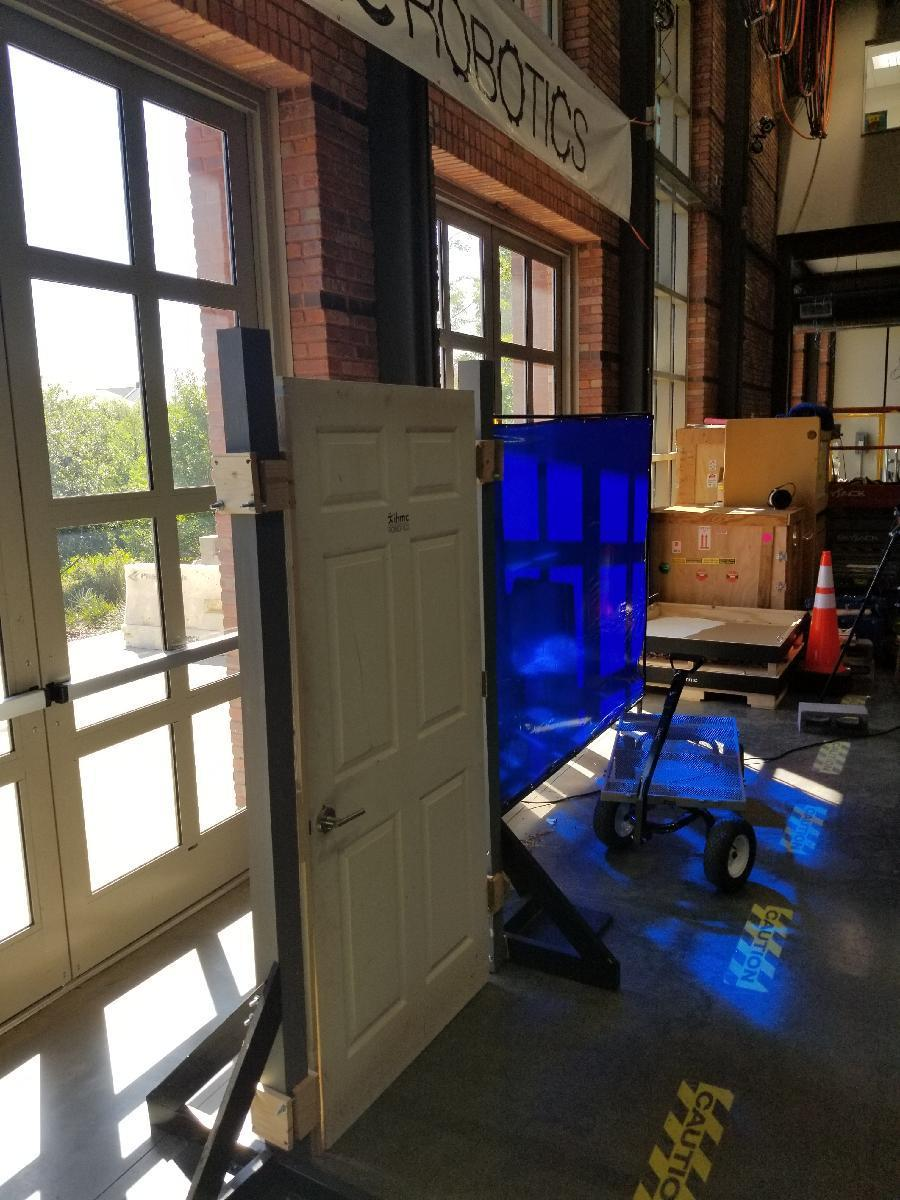door: (278, 378, 496, 1135)
handle: (314, 796, 374, 842)
